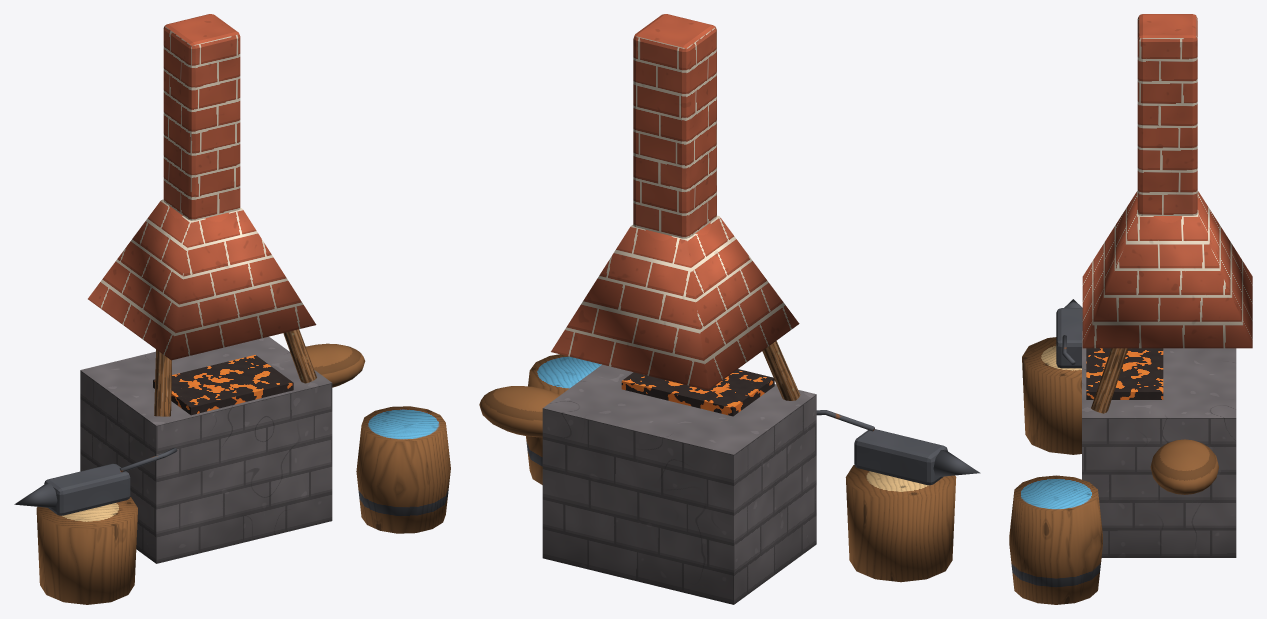
Rendered from forge.glb.
The picture shows the model from 3 angles, left to right: view 1: azimuth 30°, elevation 25°; view 2: azimuth 150°, elevation 25°; view 3: azimuth 270°, elevation 25°; orthographic projection. The views are drawn at different scales.
Parts seen in each view (by area): view 1: Forge; view 2: Forge; view 3: Forge.
Part boxes in pixels (bbox=[...]): Forge: bbox=[14, 14, 450, 604]; Forge: bbox=[479, 14, 980, 604]; Forge: bbox=[1009, 14, 1252, 604].
Size of the model in its own units: 2.88 by 3.15 by 1.42.
Materials: 1 (1 with a texture image).
